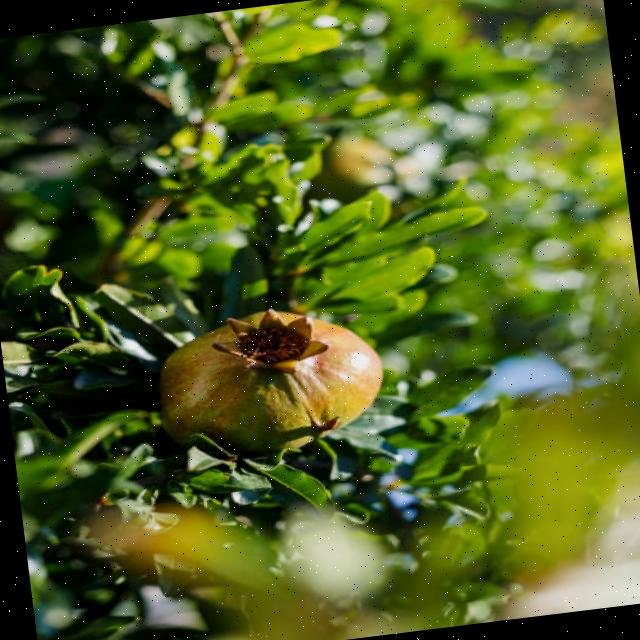Unripe: (151, 295, 392, 464)
